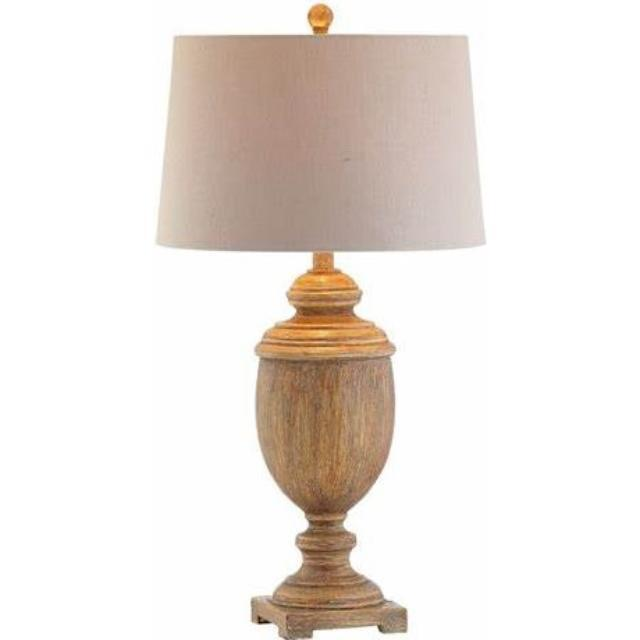lamp: (156, 4, 488, 640)
